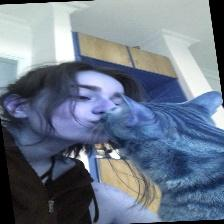kedo: (112, 91, 224, 218)
